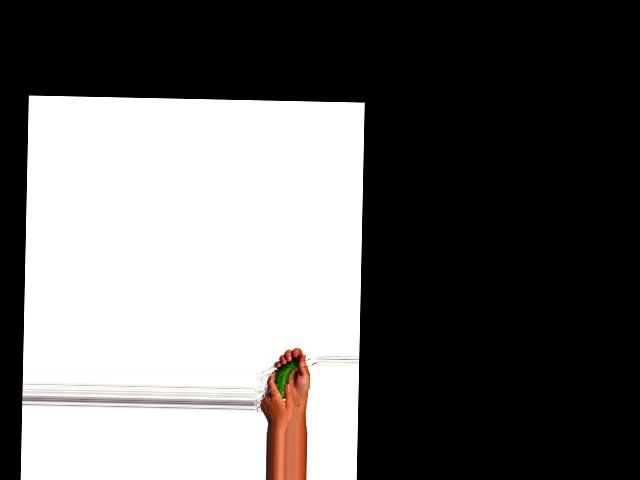cucumber: (273, 355, 299, 399)
